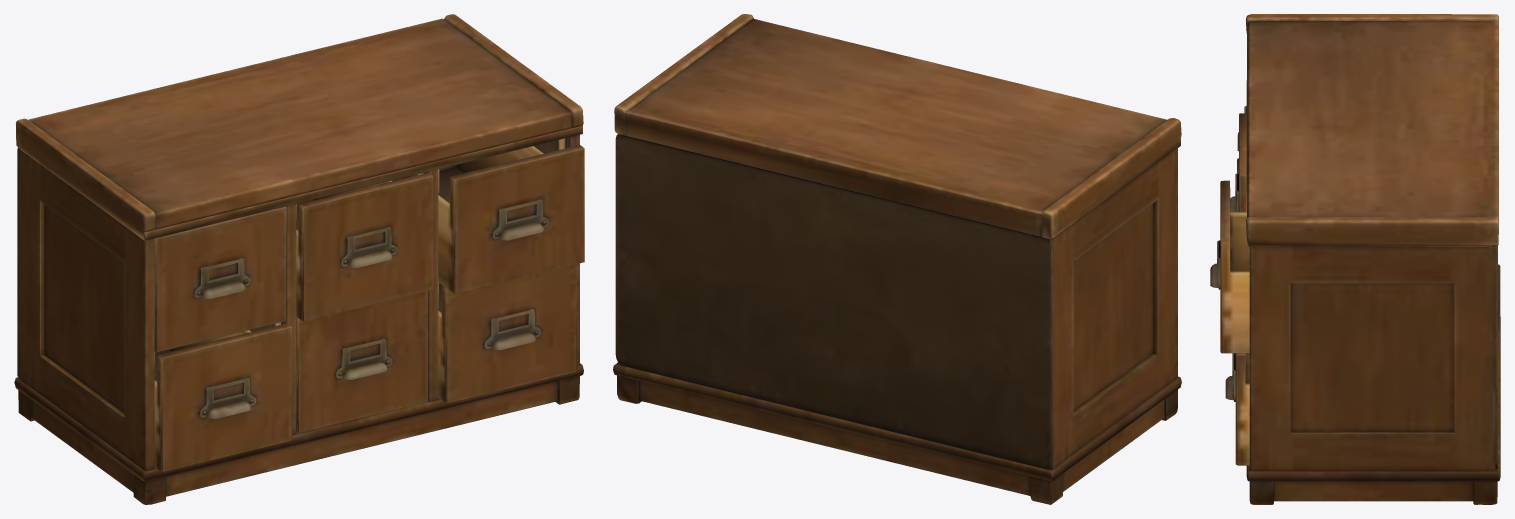
File: vintage_wooden_drawer_01.glb
The picture shows the model from 3 angles, left to right: view 1: azimuth 30°, elevation 25°; view 2: azimuth 150°, elevation 25°; view 3: azimuth 270°, elevation 25°; orthographic projection. The views are drawn at different scales.
Parts seen in each view (by area): view 1: vintage_wooden_drawer_01_body; view 2: vintage_wooden_drawer_01_body; view 3: vintage_wooden_drawer_01_body.
Boxes of the visible parts, x1=… form: vintage_wooden_drawer_01_body: x1=14, y1=14, x2=584, y2=504; vintage_wooden_drawer_01_body: x1=613, y1=14, x2=1181, y2=504; vintage_wooden_drawer_01_body: x1=1210, y1=14, x2=1500, y2=504.
Size of the model in its own units: 1.72 by 1.09 by 1.01.
1 material, 1 textured.
